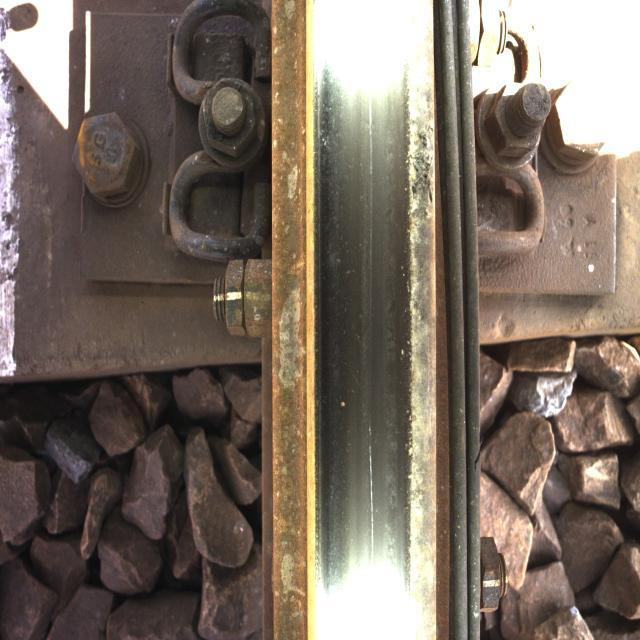normal: (322, 84, 422, 595)
